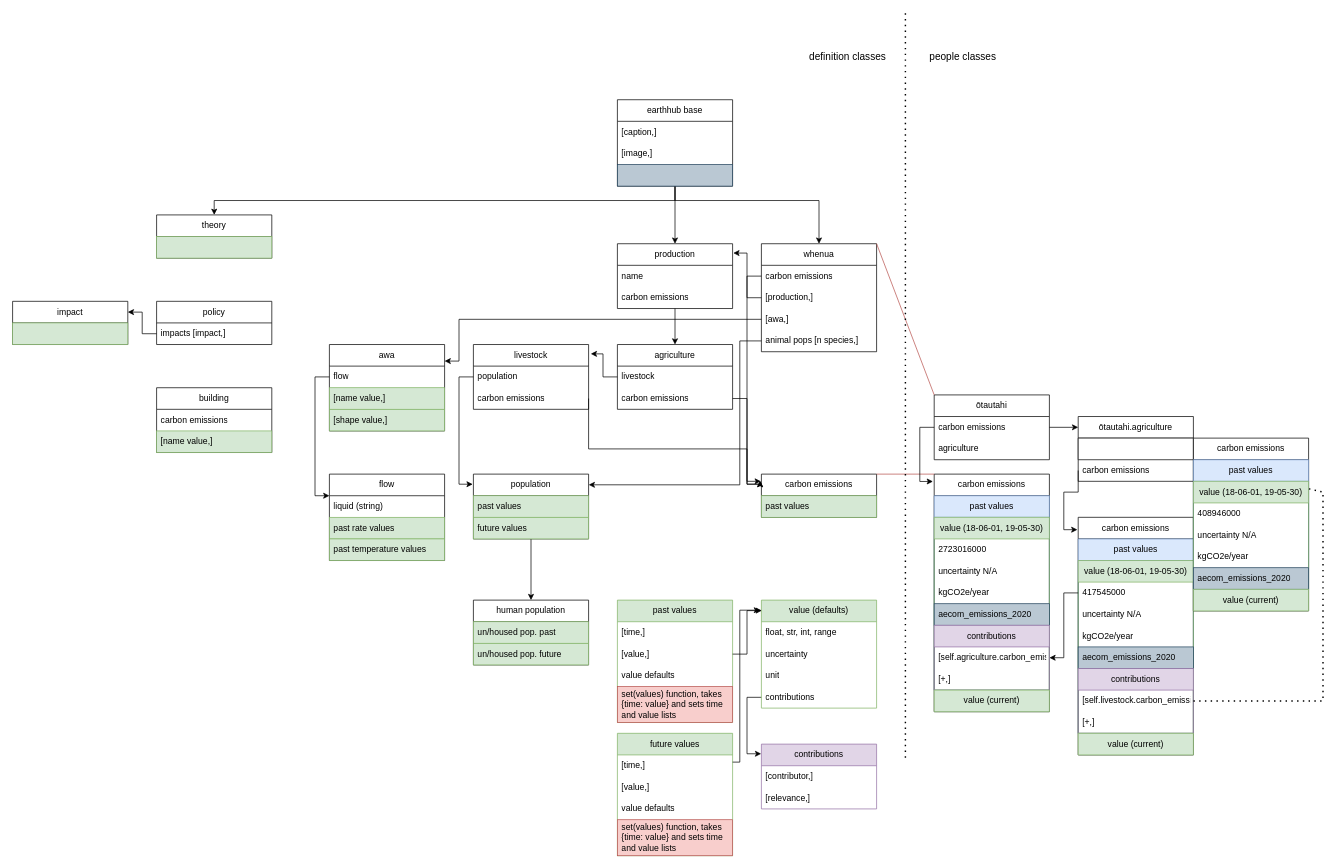
Image size: 1337x868. Some labels were removed from this diagram. The shapes that lost their labels are listed below. From the top down, each one's centre as x and y in pixels, then its label:
At point 675,175: "[reference,]".
At point 214,247: "notes [value,]".
At point 70,333: "future values [value,]".
At point 1135,448: "ōtautahi.agriculture.livestock".
